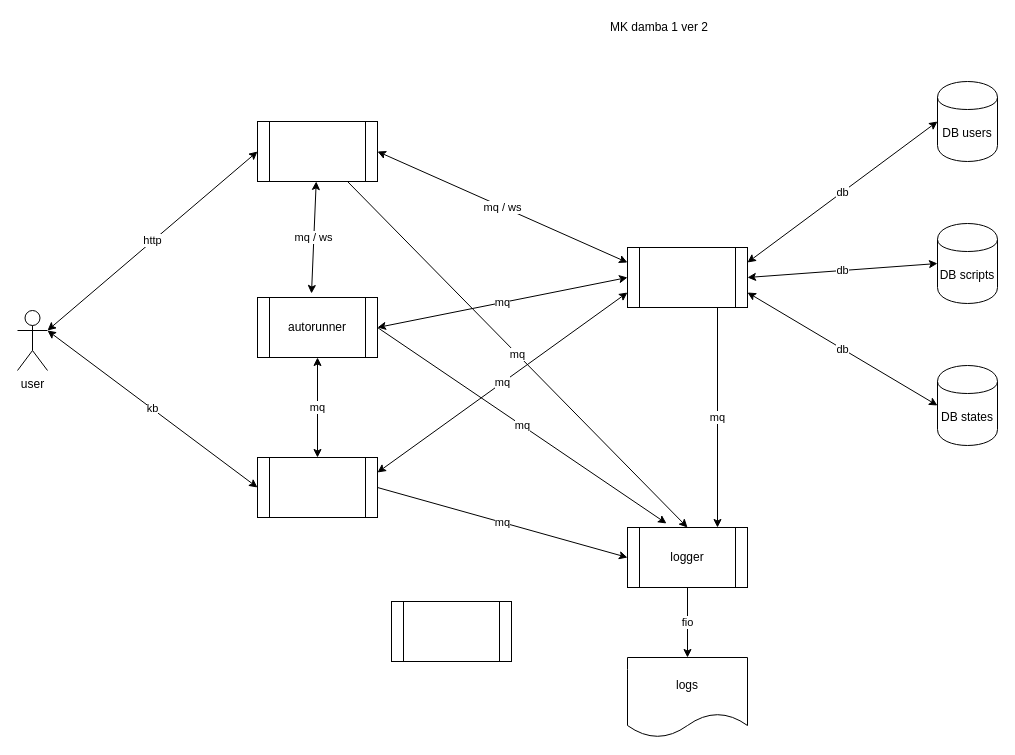
Some shapes in this 1015 by 755 pixel diagram are drawn without their labels. Each missing label, with the centre of its shape:
CLI: (x=317, y=487)
engine: (x=687, y=277)
redis mq + pub/sub: (x=451, y=631)
web: (x=317, y=151)
